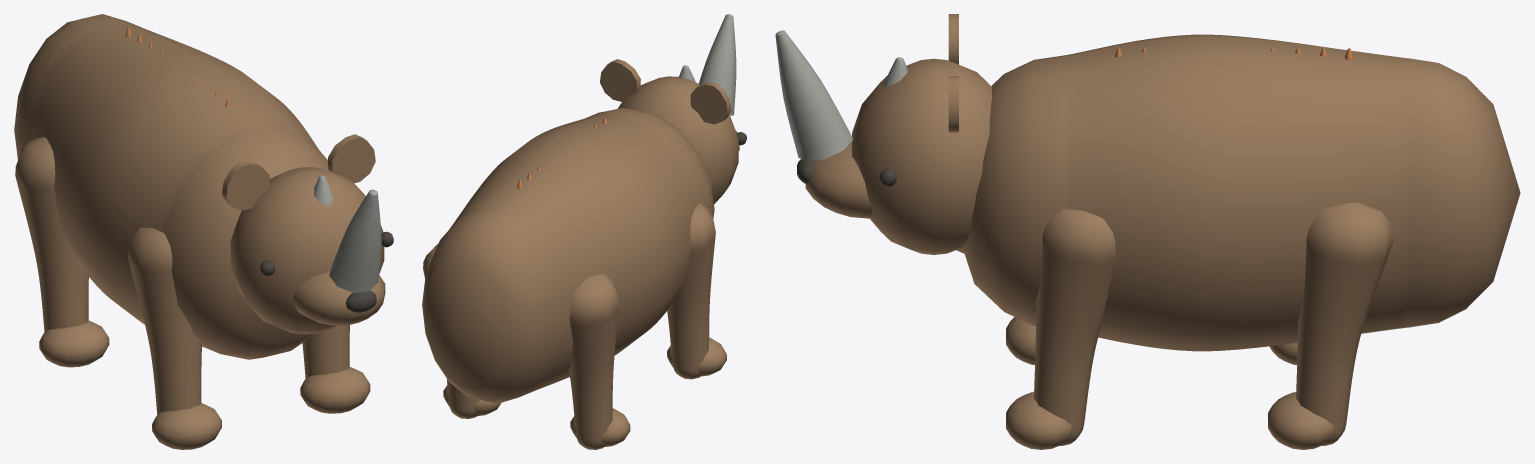
Rendered from rainforest-and-jungle-fauna-sumatran-rhinoceros-5b3002b1__21663.glb.
3 renders of one model, left to right at view 1: azimuth 30°, elevation 25°; view 2: azimuth 150°, elevation 25°; view 3: azimuth 270°, elevation 25°, orthographic. The views are drawn at different scales.
Visible parts, largest first — view 1: sumatran-rhinoceros; view 2: sumatran-rhinoceros; view 3: sumatran-rhinoceros.
Part boxes in pixels (x1,y1,x2,y2): sumatran-rhinoceros: (14, 14, 393, 449); sumatran-rhinoceros: (422, 14, 746, 449); sumatran-rhinoceros: (775, 14, 1520, 449).
Size of the model in its own units: 1.02 by 1.43 by 2.6.
